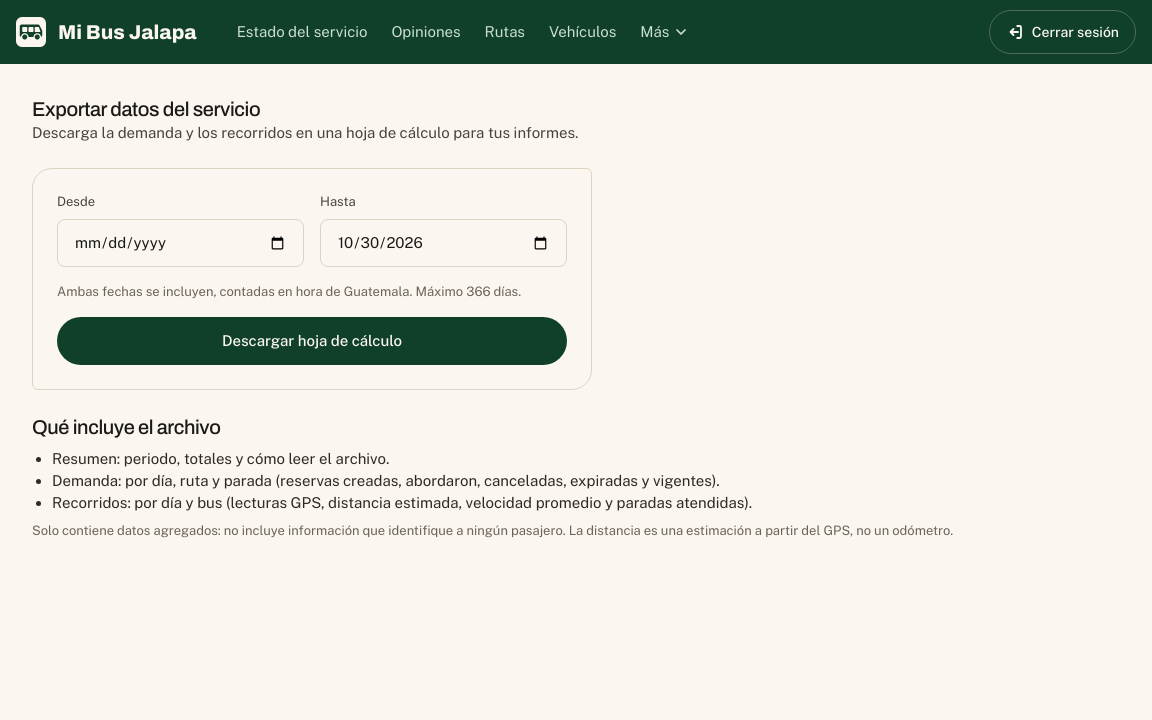
Scenario: HU-86 · pantalla Exportar datos · descarga (criterio 1) › descarga el archivo con el nombre del servidor y lo confirma
Type "2026-09-01" into the date field labelled "Desde". click: x=180, y=243
box: x1=57 y1=219 x2=304 y2=267
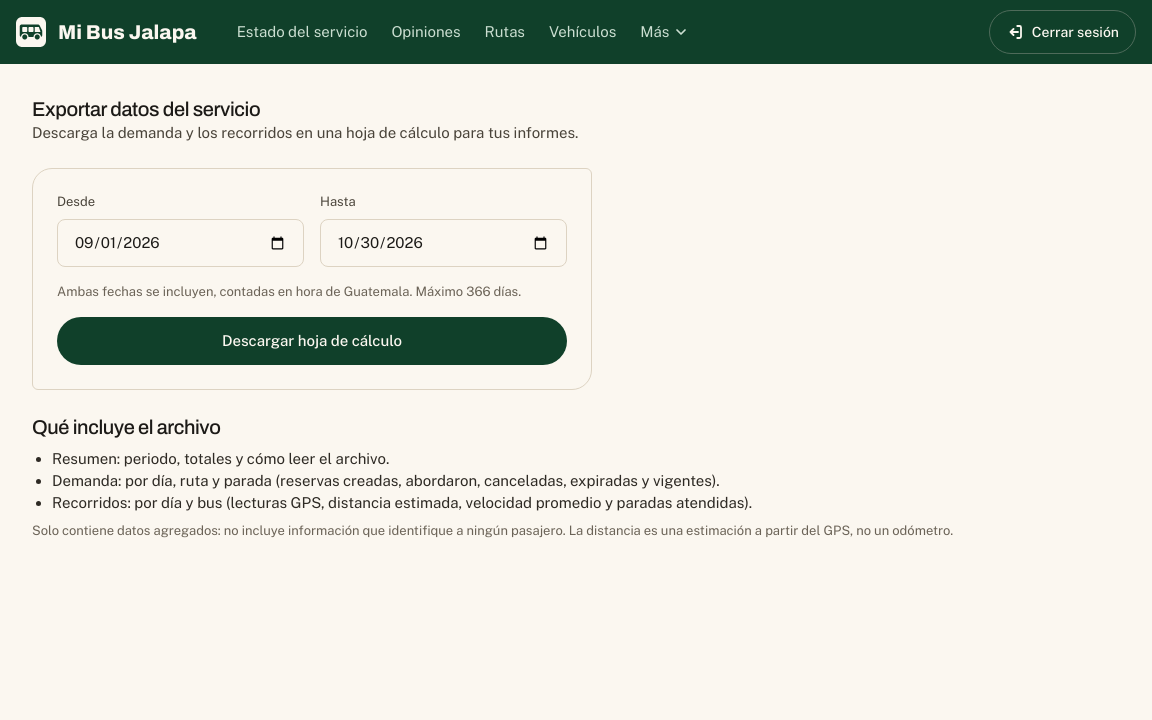
Type "2026-09-15" into the date field labelled "Hasta". click: x=444, y=243
box: x1=320 y1=219 x2=567 y2=267
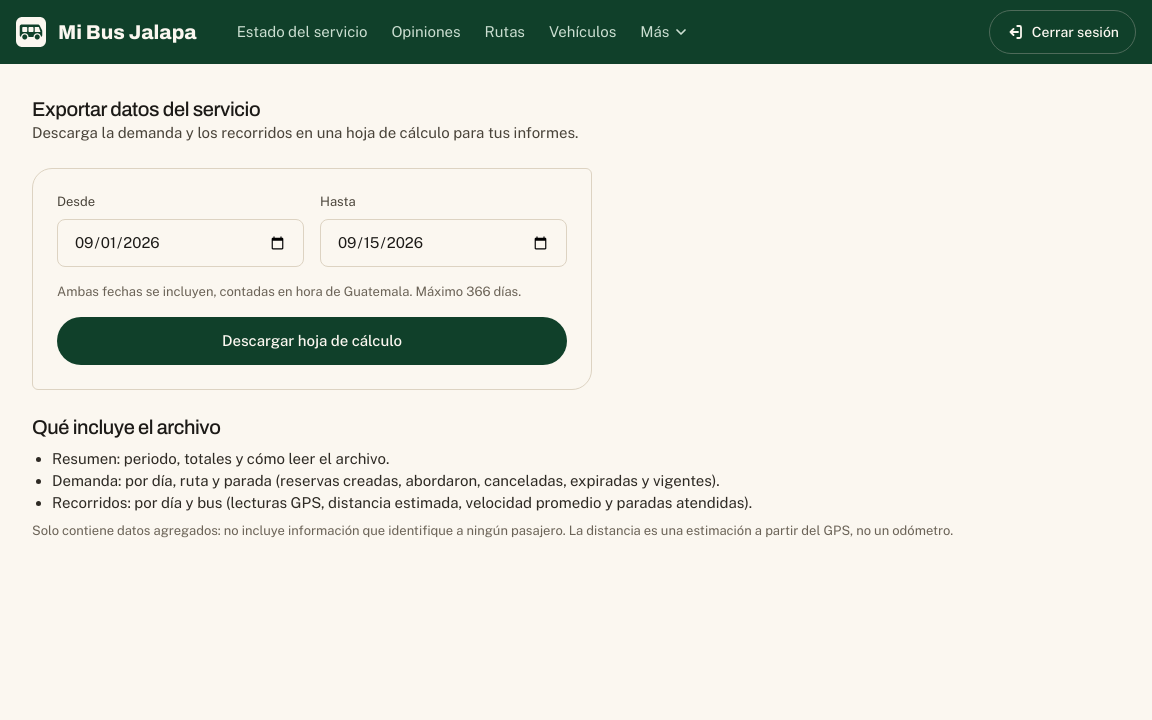
Click the button "Descargar hoja de cálculo". click: x=312, y=341
box: x1=57 y1=317 x2=567 y2=365
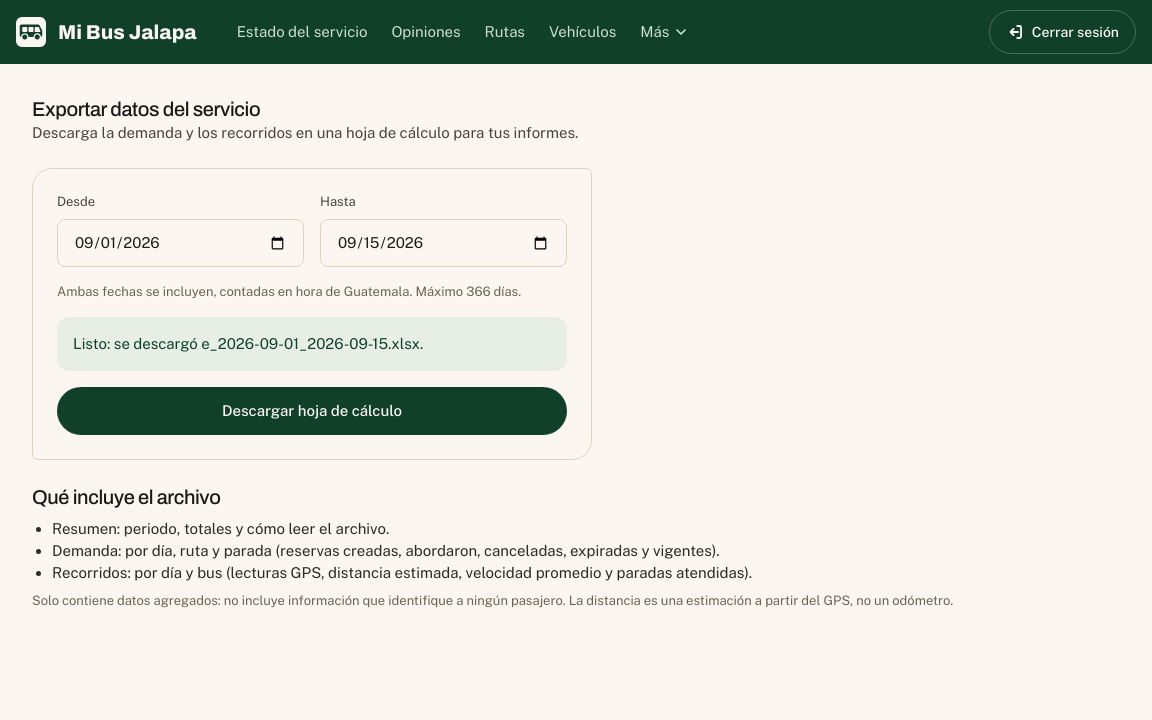
expect the message shows "e_2026-09-01_2026-09-15.xlsx": met, box x1=201 y1=335 x2=420 y2=352
